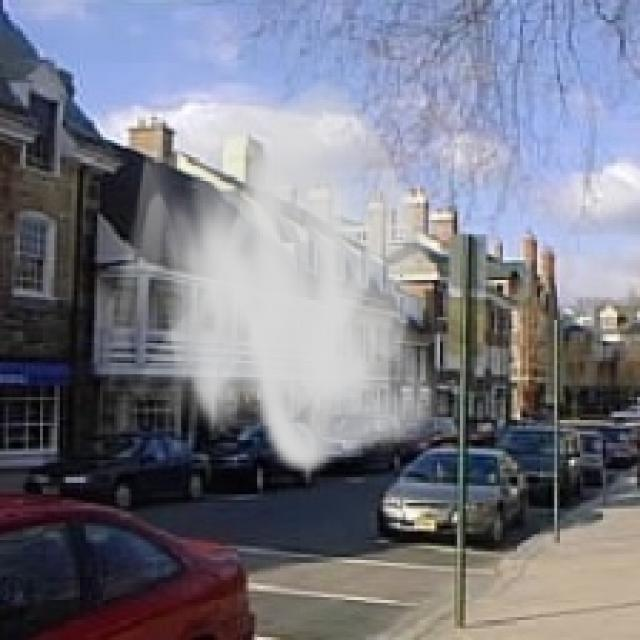Smoke: (97, 69, 449, 478)
